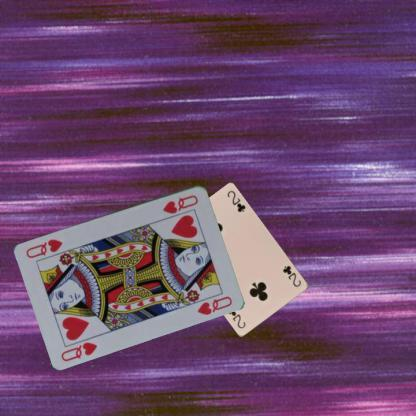2c: (280, 262, 303, 288)
Qh: (58, 339, 99, 362), (160, 192, 199, 215)
